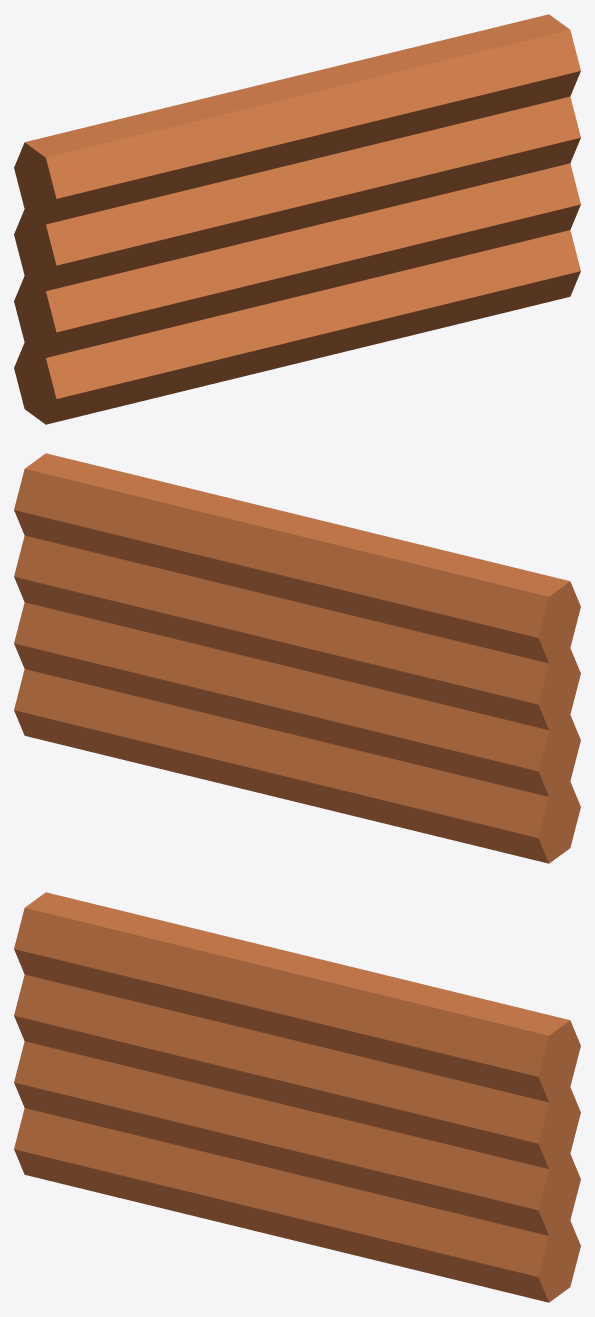
Rendered from cabinWallHalf.fbx.
3 renders of one model, top to bottom at view 1: azimuth 30°, elevation 25°; view 2: azimuth 150°, elevation 25°; view 3: azimuth 330°, elevation 25°, orthographic.
Parts seen in each view (by area): view 1: cabinWallHalf; view 2: cabinWallHalf; view 3: cabinWallHalf.
Boxes of the visible parts, x1,y1,x2,y2 form: cabinWallHalf: [14, 14, 580, 424]; cabinWallHalf: [14, 453, 580, 863]; cabinWallHalf: [14, 892, 580, 1302].
Bounding box in the file's own units: 10 × 4.86 × 1.4.
